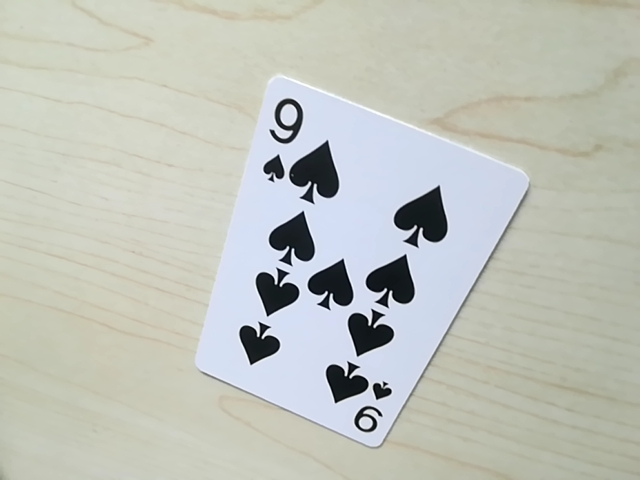ht 9: (258, 87, 303, 185), (343, 386, 395, 439)
